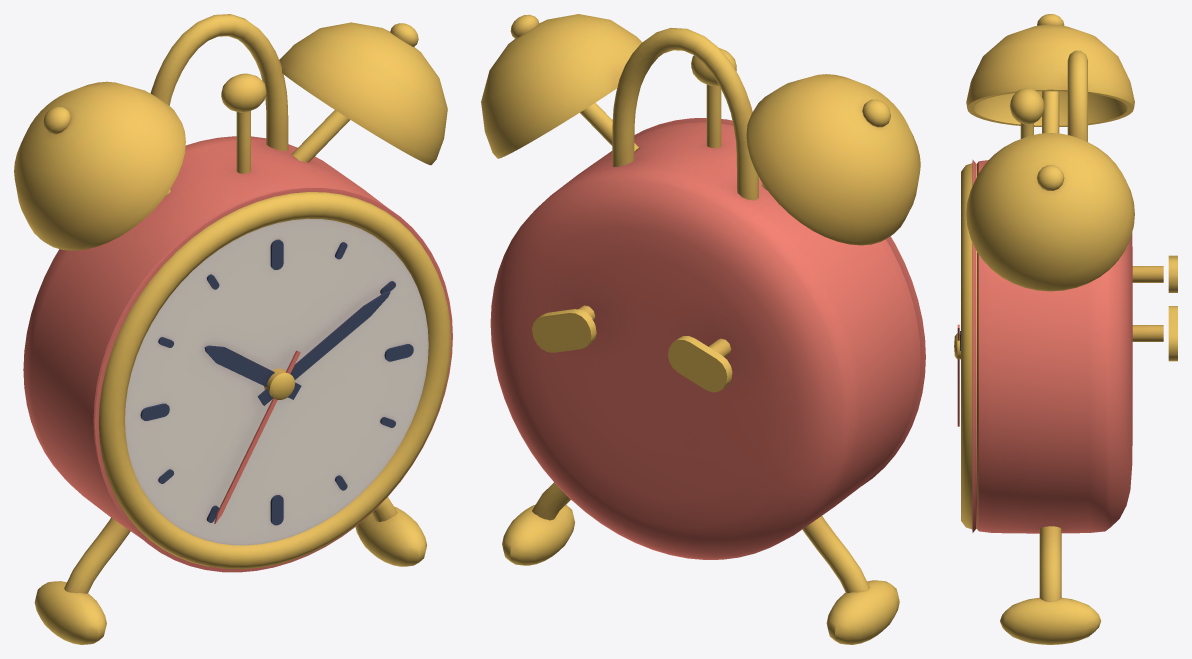
File: alarm-clock.glb
3 renders of one model, left to right at view 1: azimuth 30°, elevation 25°; view 2: azimuth 150°, elevation 25°; view 3: azimuth 270°, elevation 25°, orthographic. The views are drawn at different scales.
Visible parts, largest first — view 1: alarm-clock_body; view 2: alarm-clock_body; view 3: alarm-clock_body.
Part boxes in pixels (<box>): alarm-clock_body: <box>14,14,452,644</box>; alarm-clock_body: <box>481,14,925,644</box>; alarm-clock_body: <box>954,14,1177,644</box>.
Bounding box in the file's own units: 0.1098 × 0.1465 × 0.0575.
1 material, 1 textured.
